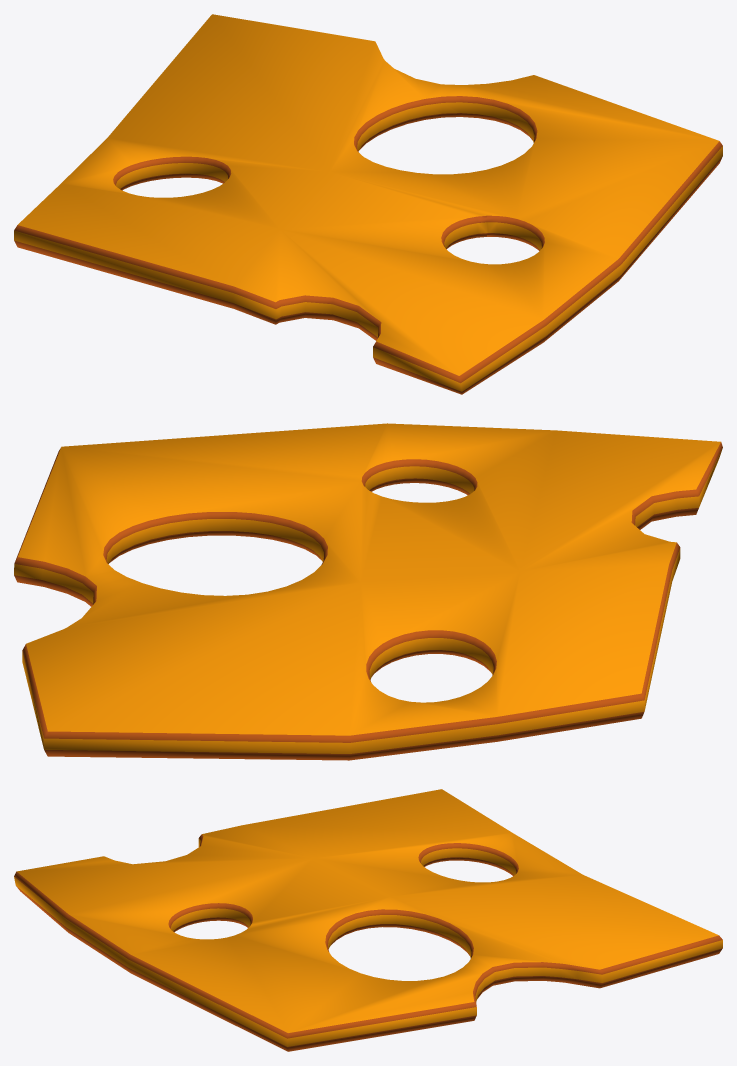
File: cheese_cut.fbx
3 views of the same model, one above another, from view 1: azimuth 30°, elevation 25°; view 2: azimuth 150°, elevation 25°; view 3: azimuth 270°, elevation 25° (orthographic). The views are drawn at different scales.
Visible parts, largest first — view 1: Plan; view 2: Plan; view 3: Plan.
Boxes of the visible parts, x1,y1,x2,y2 form: Plan: (14,14,722,394); Plan: (14,423,722,760); Plan: (14,789,722,1051).
Bounding box in the file's own units: 165 × 13.29 × 198.
